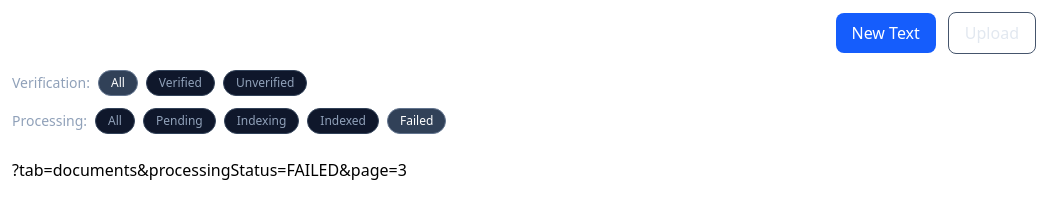
Test: DocumentListToolbar › should update query params and reset page when filter changes
This screenshot has width=1048, height=198.
Click the radio button labelled "Unverified". click: (265, 83)
box: [223, 70, 308, 96]
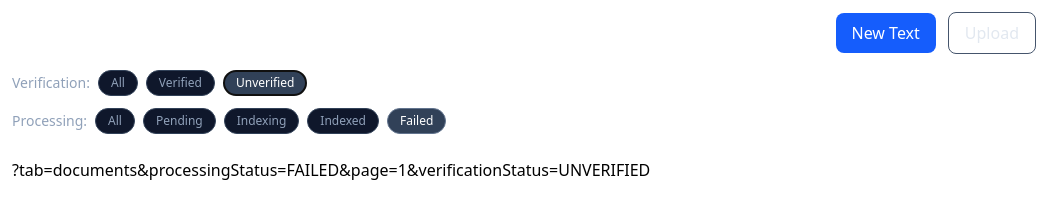
Expected: the text with test id "location-search" shows "tab=documents", [19, 159, 650, 181]
Expected: the text with test id "location-search" shows "verificationStatus=UNVERIFIED", [19, 159, 650, 181]
Expected: the text with test id "location-search" shows "page=1", [19, 159, 650, 181]
